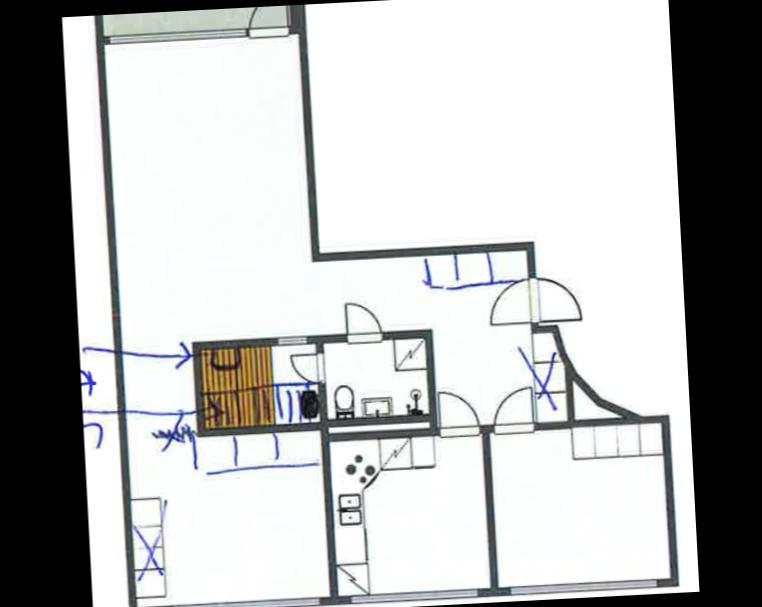door: (526, 271, 586, 326), (483, 273, 538, 328), (432, 385, 484, 442), (486, 383, 536, 436), (344, 297, 385, 344), (244, 4, 292, 40), (286, 348, 329, 385)
window: (501, 572, 662, 598), (102, 22, 250, 46), (344, 582, 484, 605), (167, 590, 328, 607), (274, 329, 314, 347)
